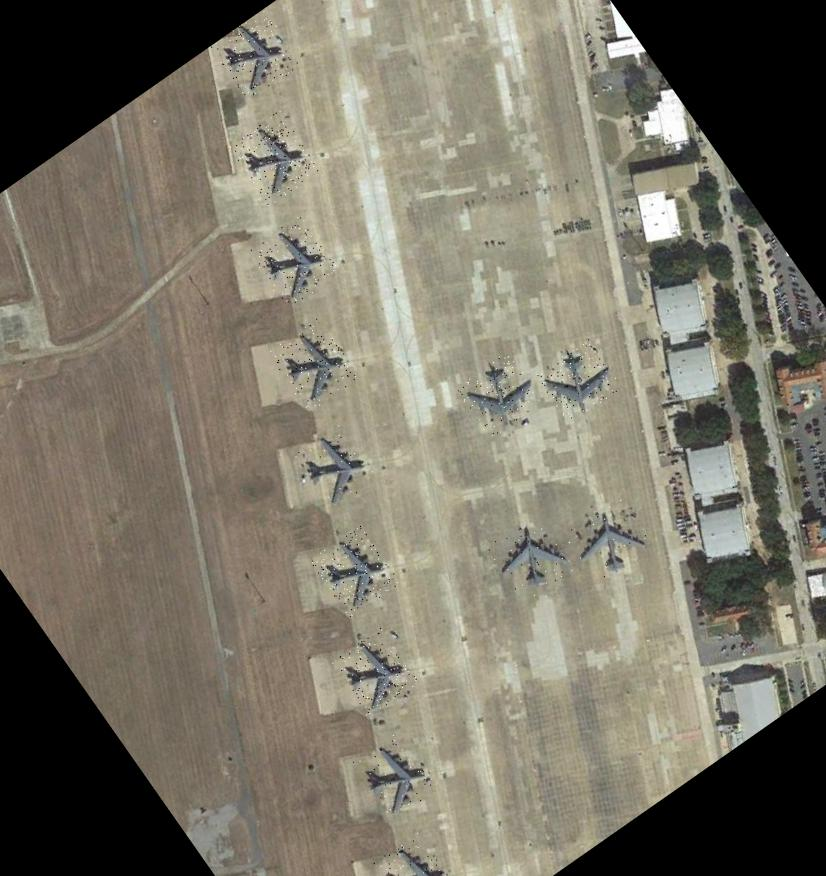A8: (562, 495, 658, 592), (246, 213, 342, 310), (227, 109, 321, 206), (267, 316, 360, 412), (482, 512, 576, 606), (209, 8, 303, 102), (308, 524, 400, 618), (329, 626, 419, 717), (290, 422, 380, 511), (454, 350, 544, 438), (350, 732, 436, 822), (534, 338, 622, 424), (370, 831, 458, 876)
